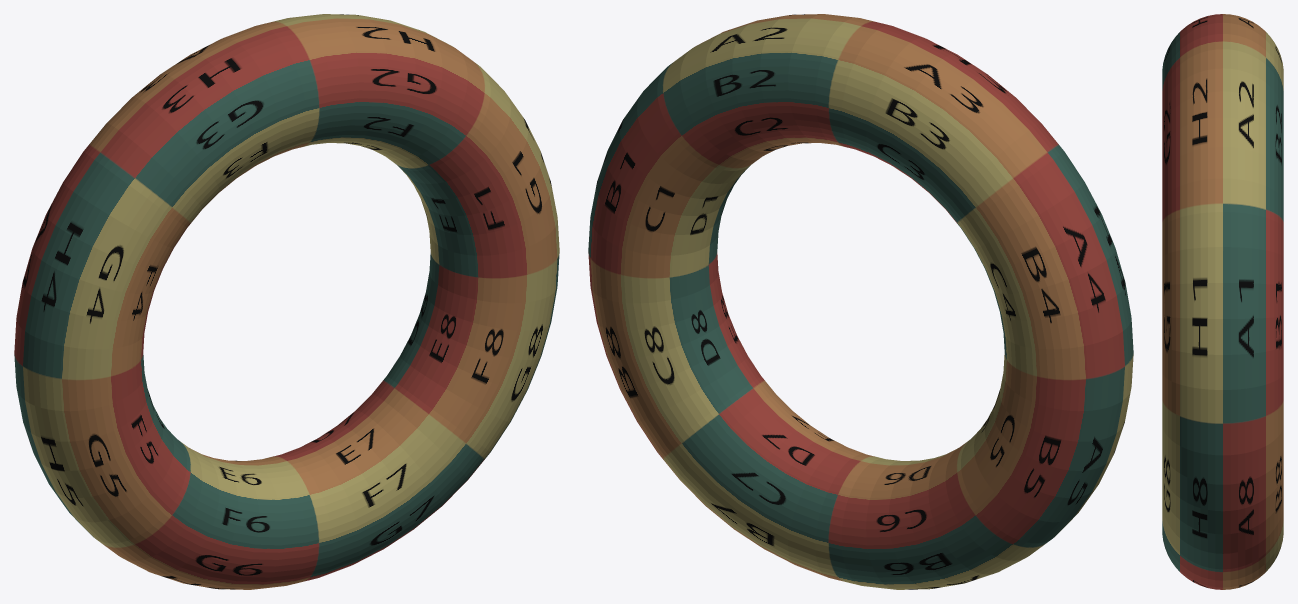
File: texture_torus_R23_r18.glb
The picture shows the model from 3 angles, left to right: view 1: azimuth 30°, elevation 25°; view 2: azimuth 150°, elevation 25°; view 3: azimuth 270°, elevation 25°; orthographic projection. The views are drawn at different scales.
Visible parts, largest first — view 1: world; view 2: world; view 3: world.
Part boxes in pixels (<box>): world: <box>14,14,559,589</box>; world: <box>588,14,1133,589</box>; world: <box>1162,14,1283,589</box>.
Bounding box in the file's own units: 32.13 × 32.07 × 6.79.
1 material, 1 textured.
